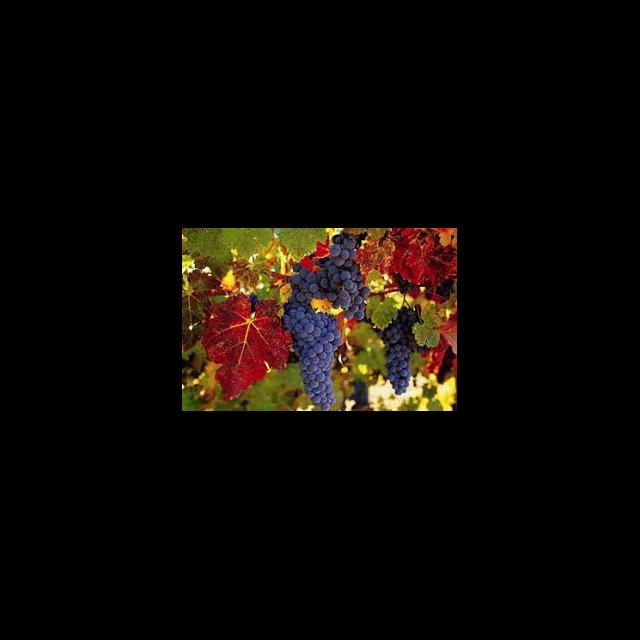grape: (282, 232, 371, 410)
